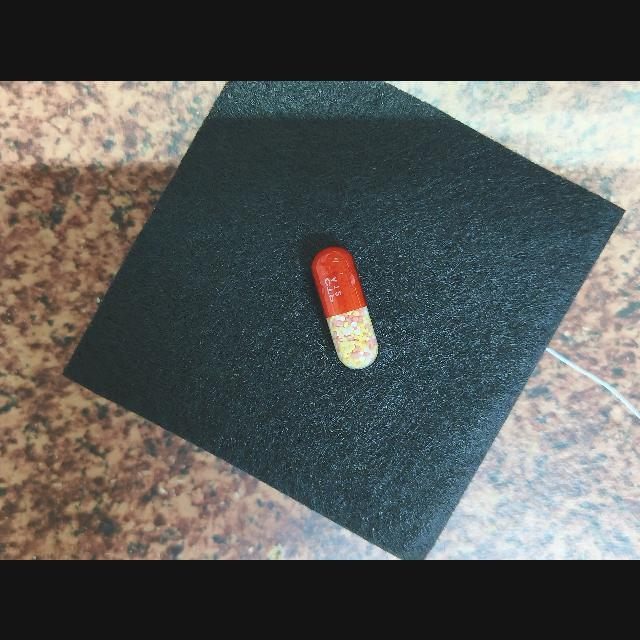Intact Capsule: (311, 246, 378, 369)
